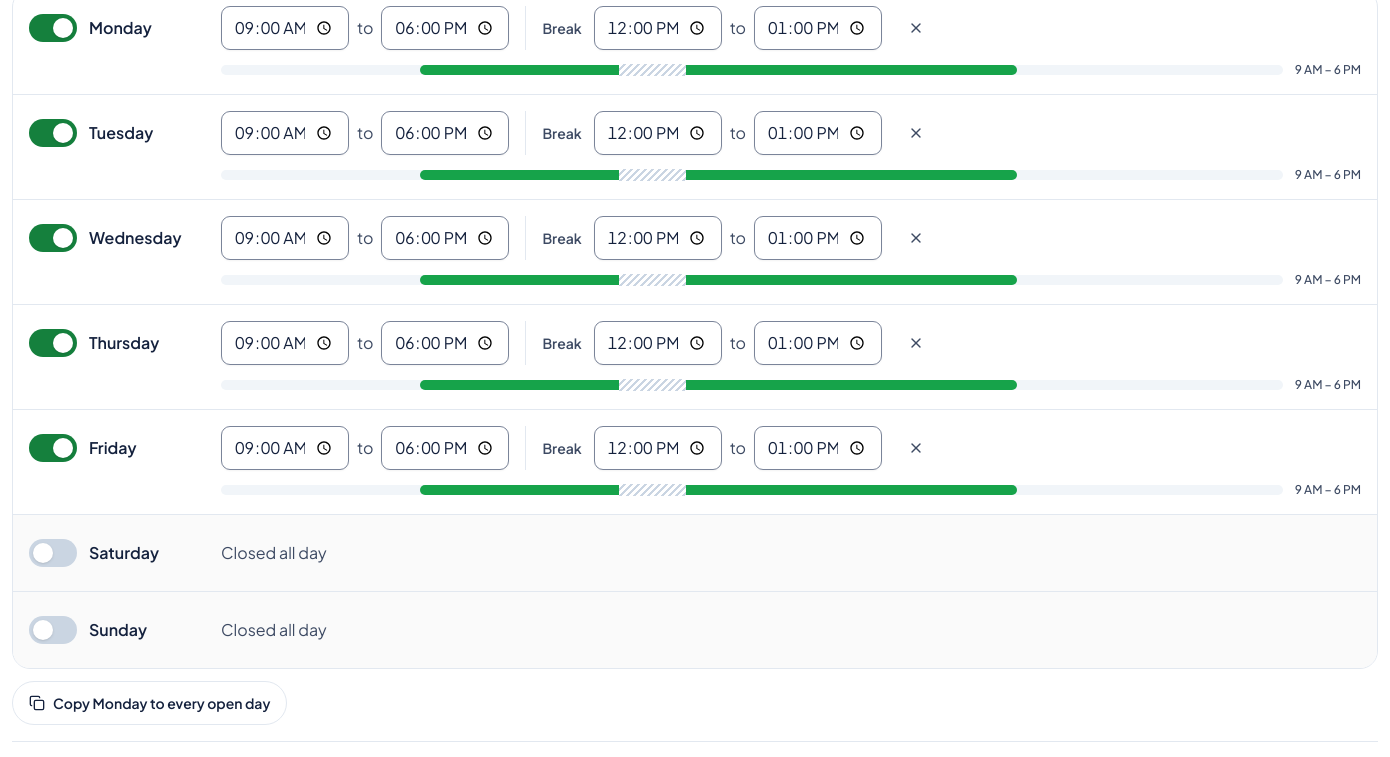
Test case: ShopHoursForm › flags a break outside opening hours and blocks saving
Replace the text in the 3rd time field named "Monday break starts" with "08:00" at (658, 28), box x1=594 y1=6 x2=722 y2=50
(page scrolled)
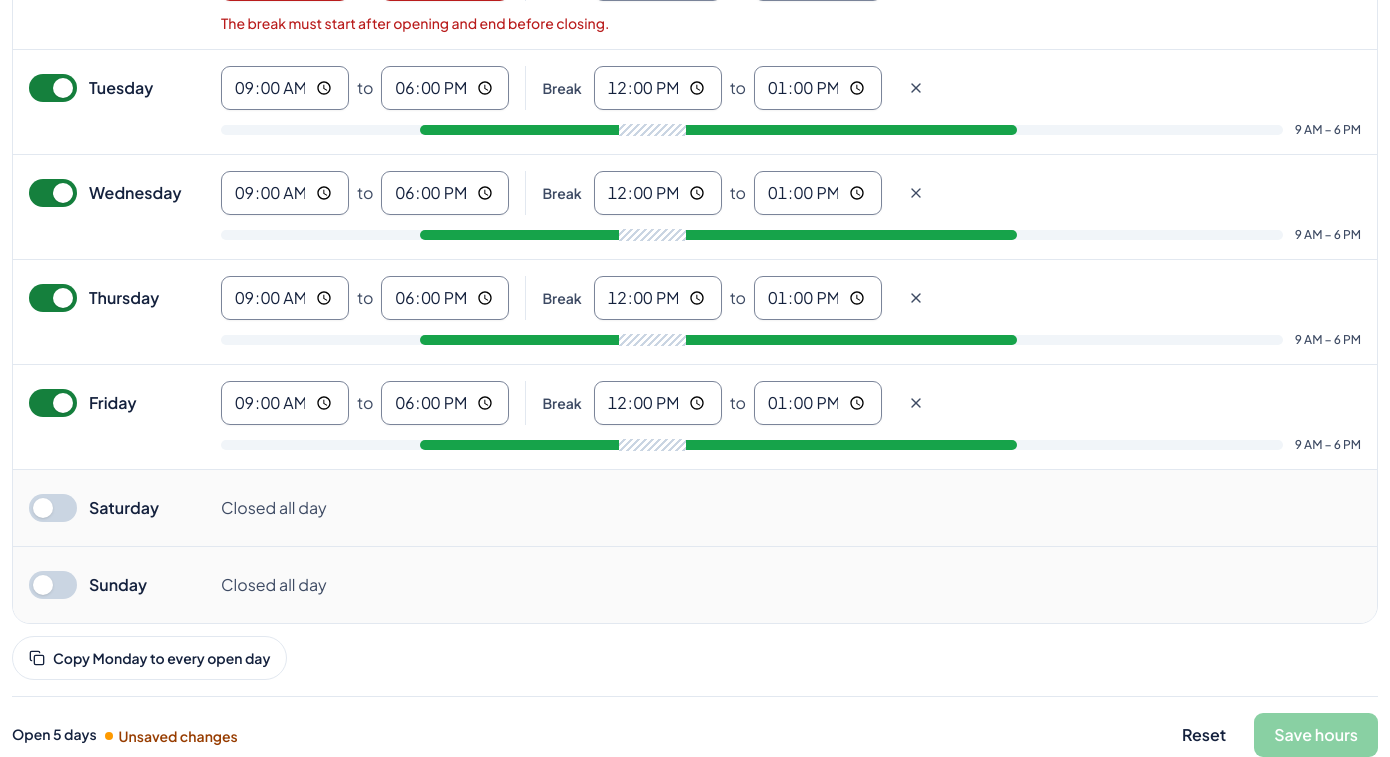
Expected: the text "The break must start after opening and end before closing." is shown, x1=221 y1=14 x2=609 y2=32
Expected: the button "Save hours" is disabled, x1=1254 y1=713 x2=1378 y2=756
